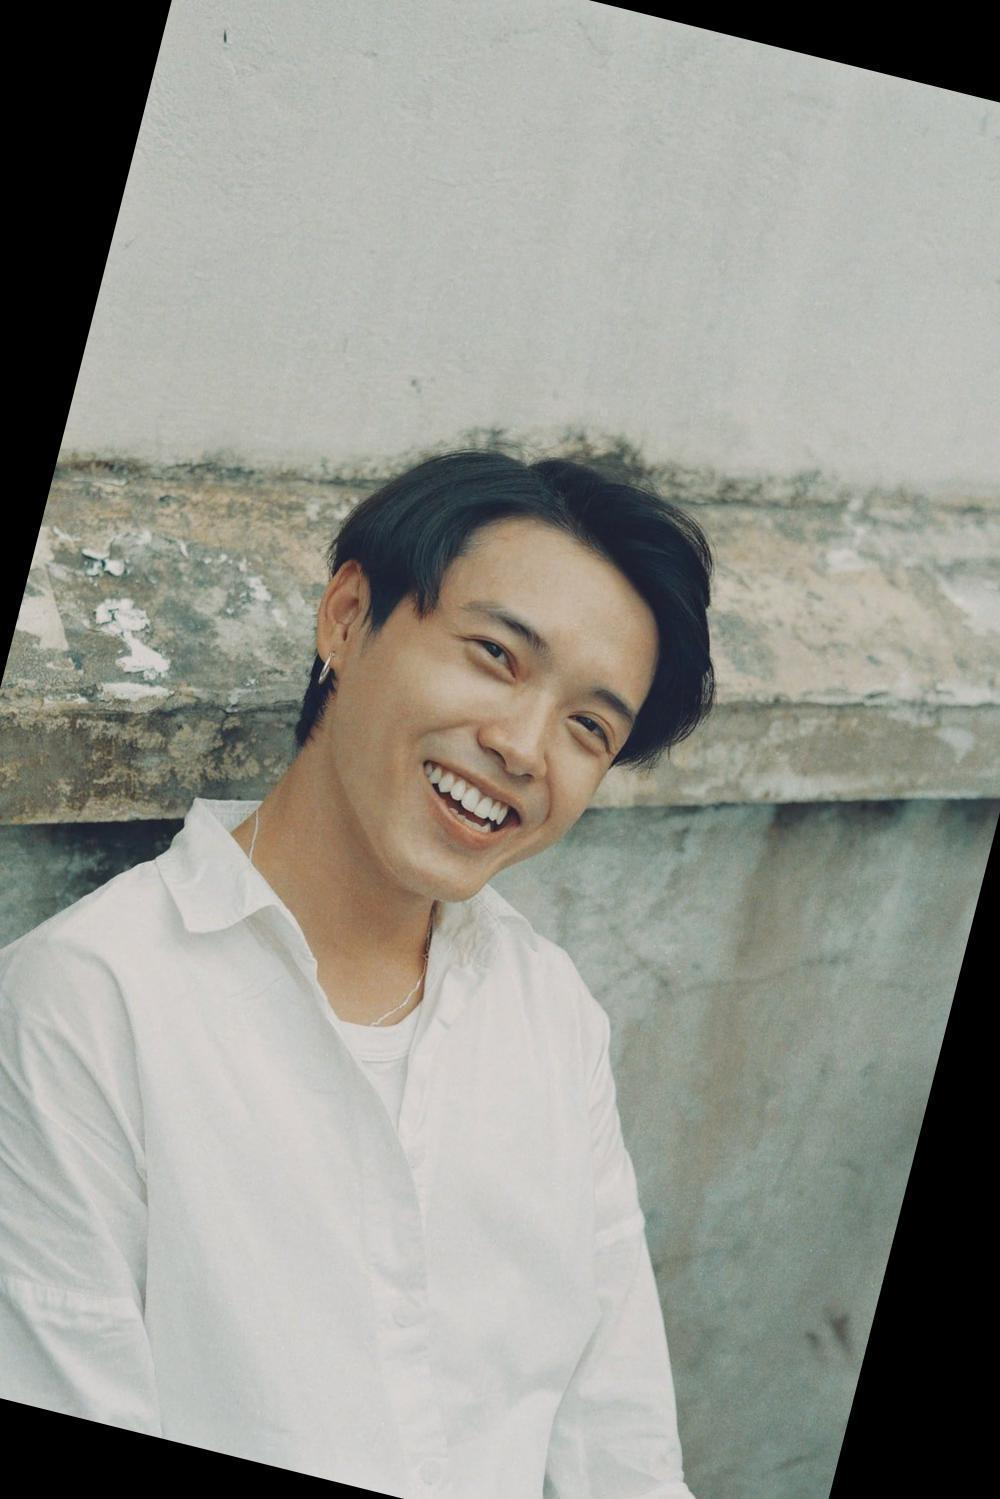Sober: (365, 557, 651, 878)
